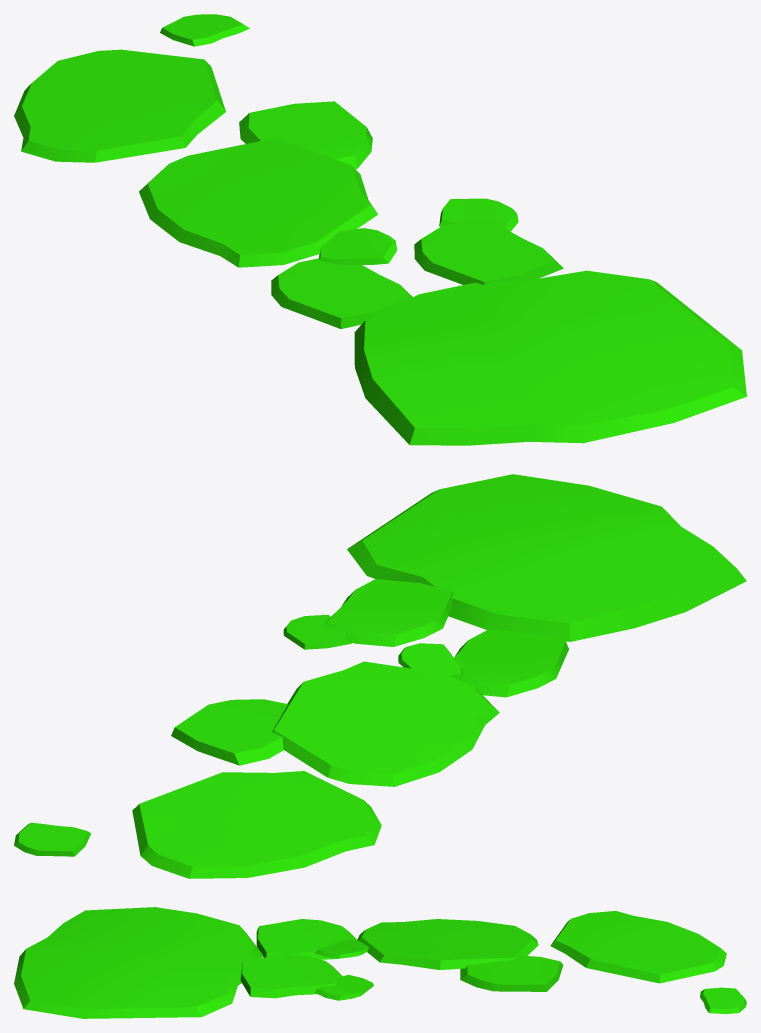
File: Debris_Concrete_05B.fbx
3 renders of one model, top to bottom at view 1: azimuth 30°, elevation 25°; view 2: azimuth 150°, elevation 25°; view 3: azimuth 270°, elevation 25°, orthographic. The views are drawn at different scales.
Parts seen in each view (by area): view 1: Debris_Concrete_05B; view 2: Debris_Concrete_05B; view 3: Debris_Concrete_05B.
Part boxes in pixels (x1,y1,x2,y2): Debris_Concrete_05B: (14,14,746,445); Debris_Concrete_05B: (14,474,746,878); Debris_Concrete_05B: (14,907,746,1018).
Size of the model in its own units: 96.82 by 10.07 by 269.
